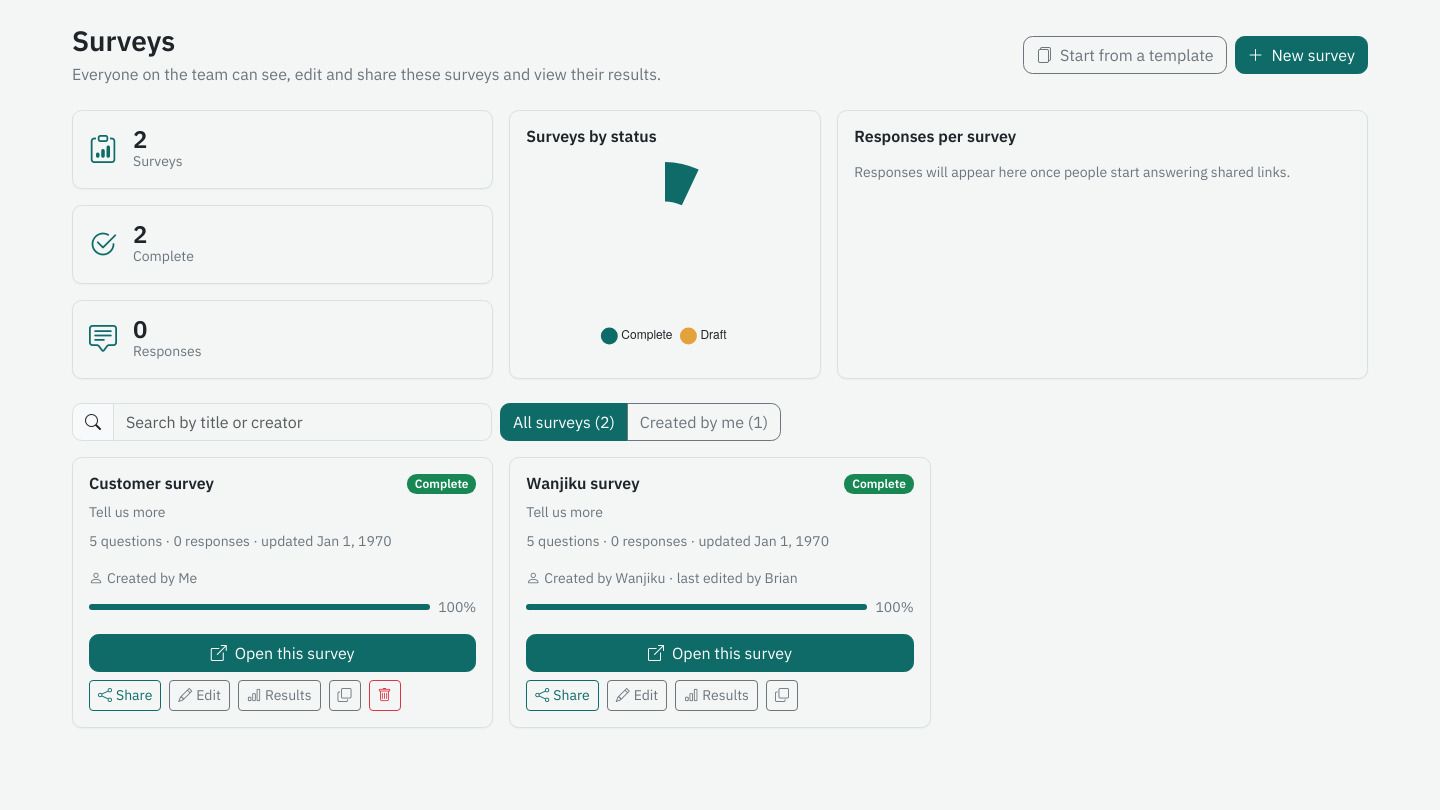
Team collaboration › dashboard search also finds a survey by its creator
Expected: the heading "Wanjiku survey" is shown, [526,474,640,493]
Type "wanjiku" into the search field named "Search surveys". click: (302, 422)
box: [113,403,492,441]
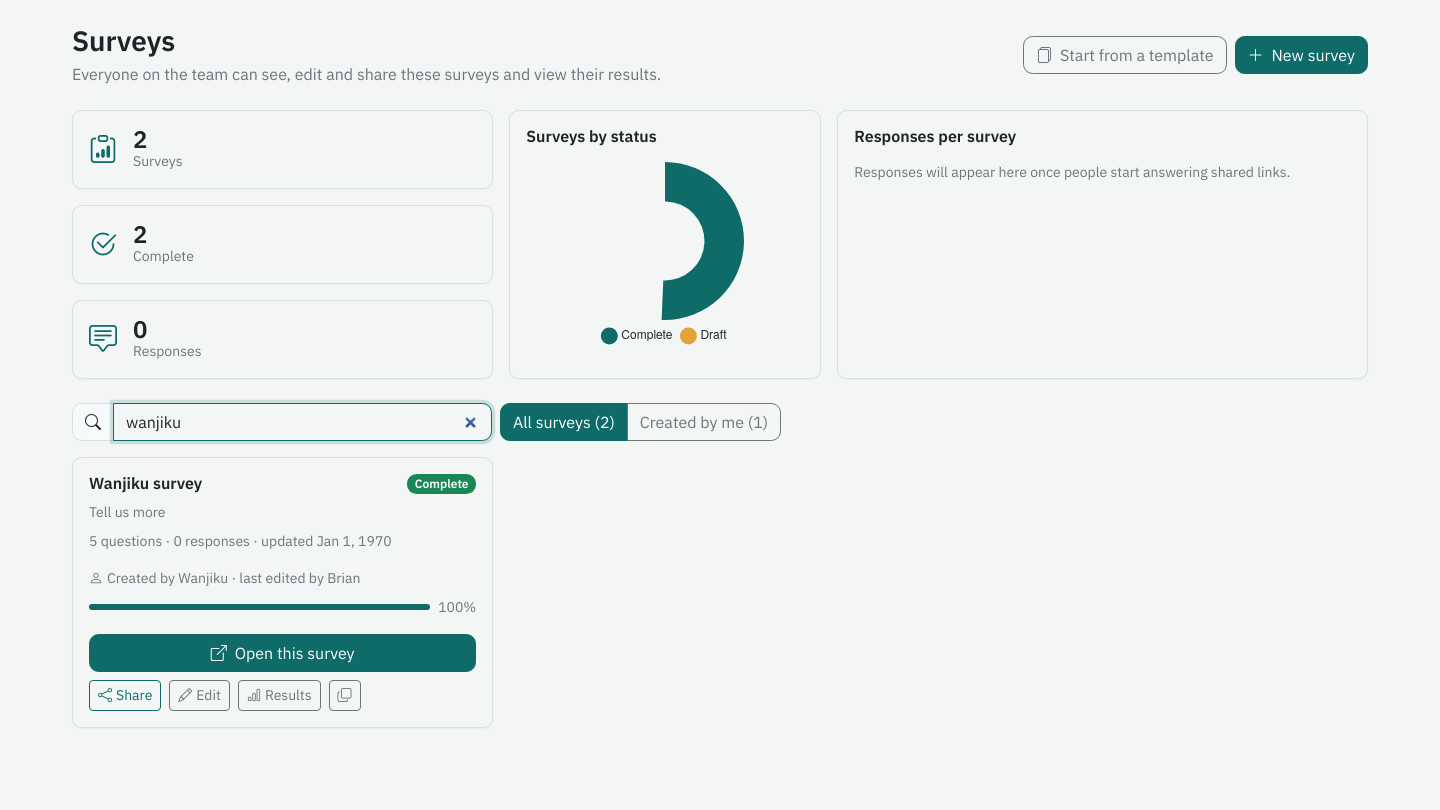
Expected: the heading "Wanjiku survey" is shown, [89,474,202,493]
Expected: the heading "Customer survey" is gone
